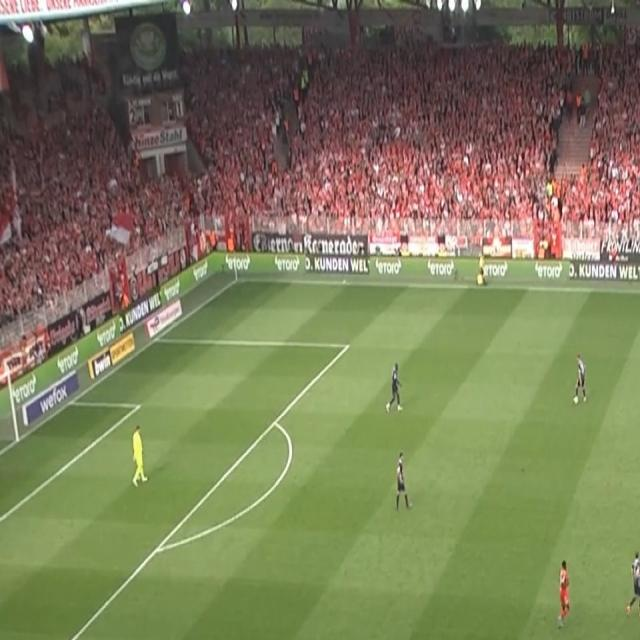ball: (573, 394, 579, 406)
